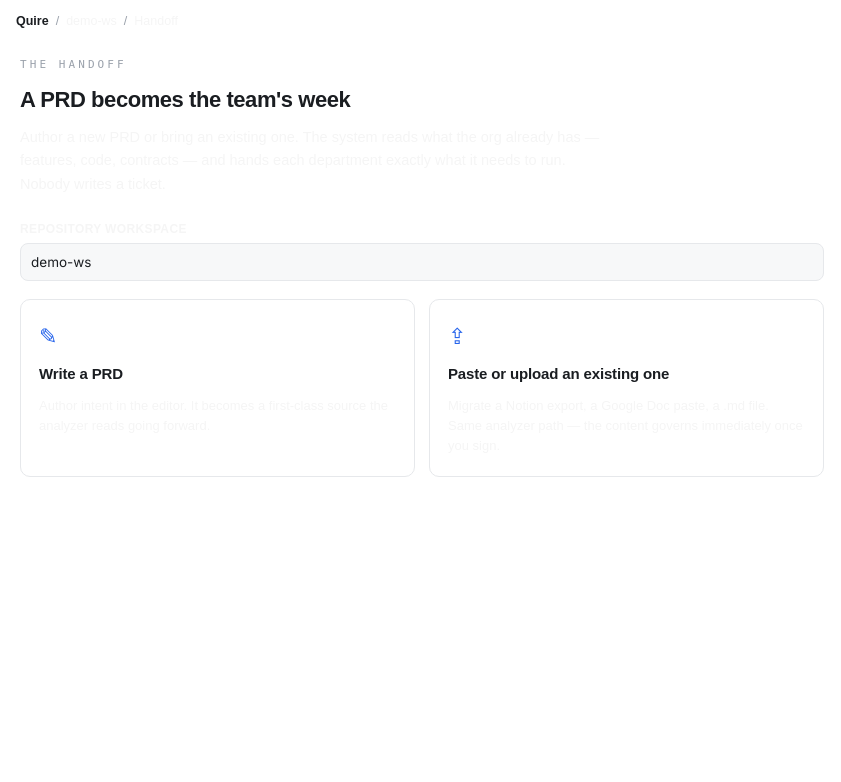
Handoff surface — editor door › opens the editor when Write a PRD is clicked
Click the text "Write a PRD" at (81, 374), box [39,363,123,386]
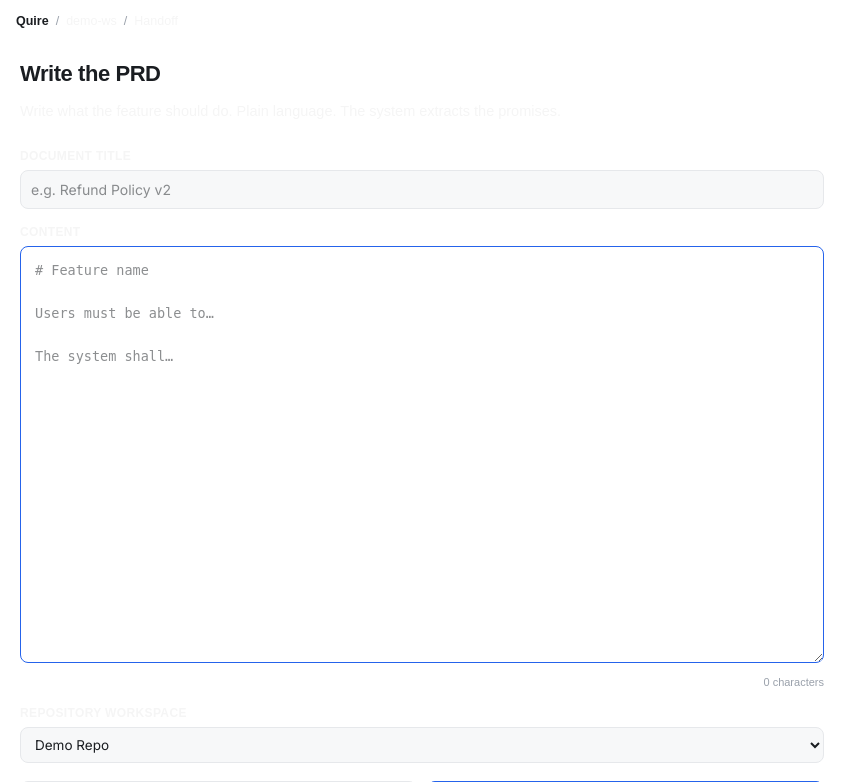
Check: the heading "Write the PRD" is shown, box [20,61,161,86]
Check: the text box with class "hf-editor" is shown, box [20,246,824,663]
